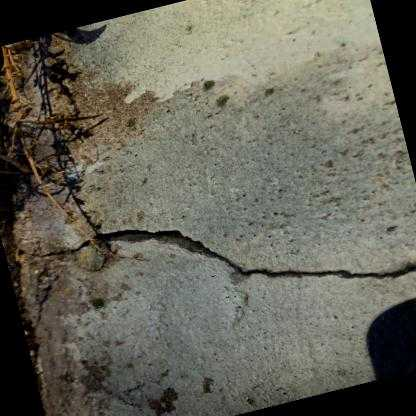crack: (38, 228, 416, 276)
